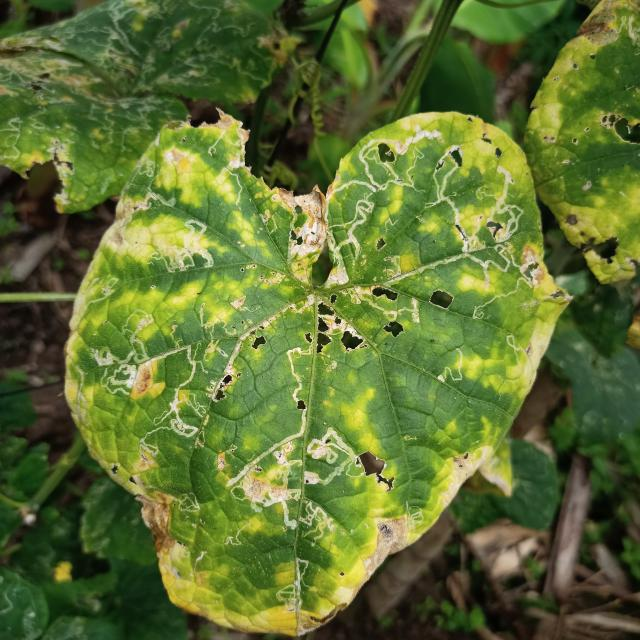disease_cucumber: (49, 107, 562, 631), (356, 508, 414, 571)
